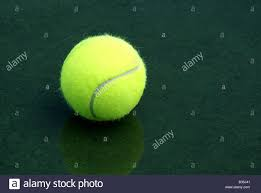tennis_ball: (59, 33, 147, 122)
